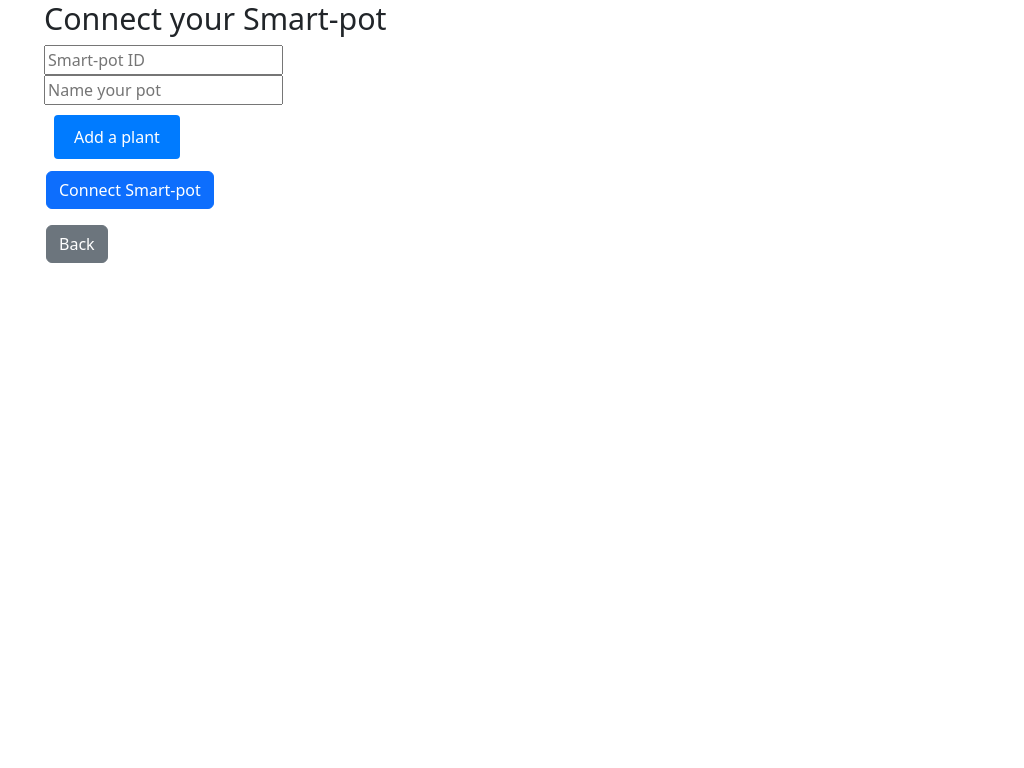
it: Pop-up when clicking add plant and close when cancel
The width and height of the screenshot is (1024, 768).
Click the text "Add a plant": [117, 136] box [54,114,180,158]
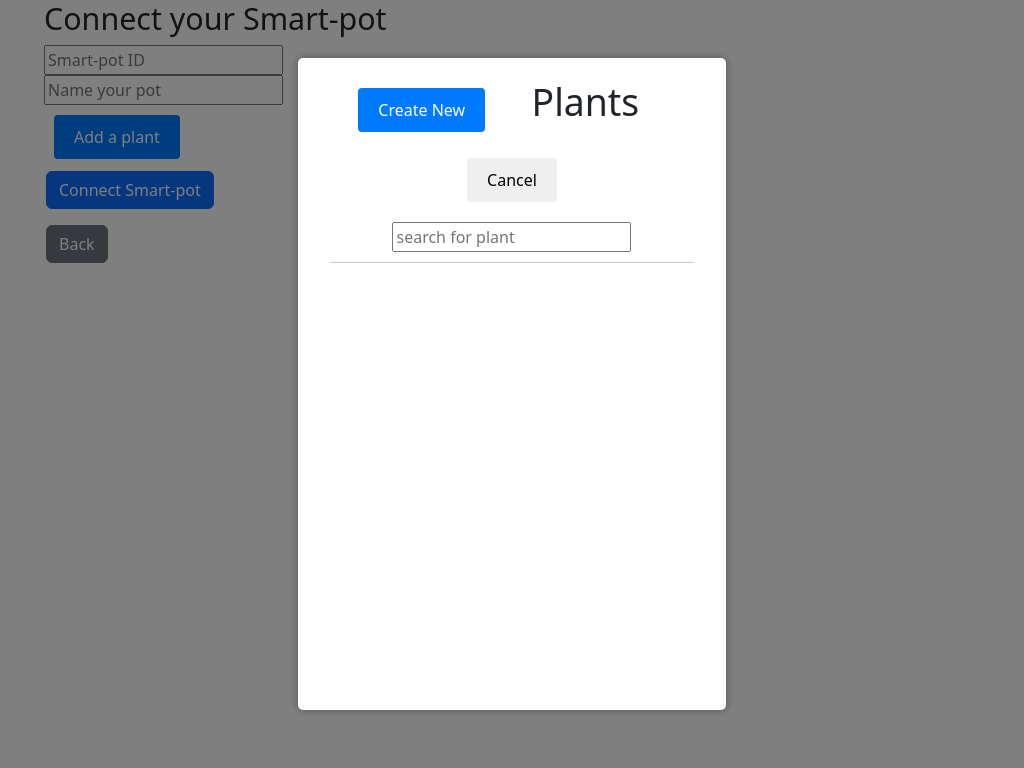
Expected: the heading "Plants" is shown, [532,80,639,124]
Click the button "Cancel": [512, 180] box [467,158,557,202]
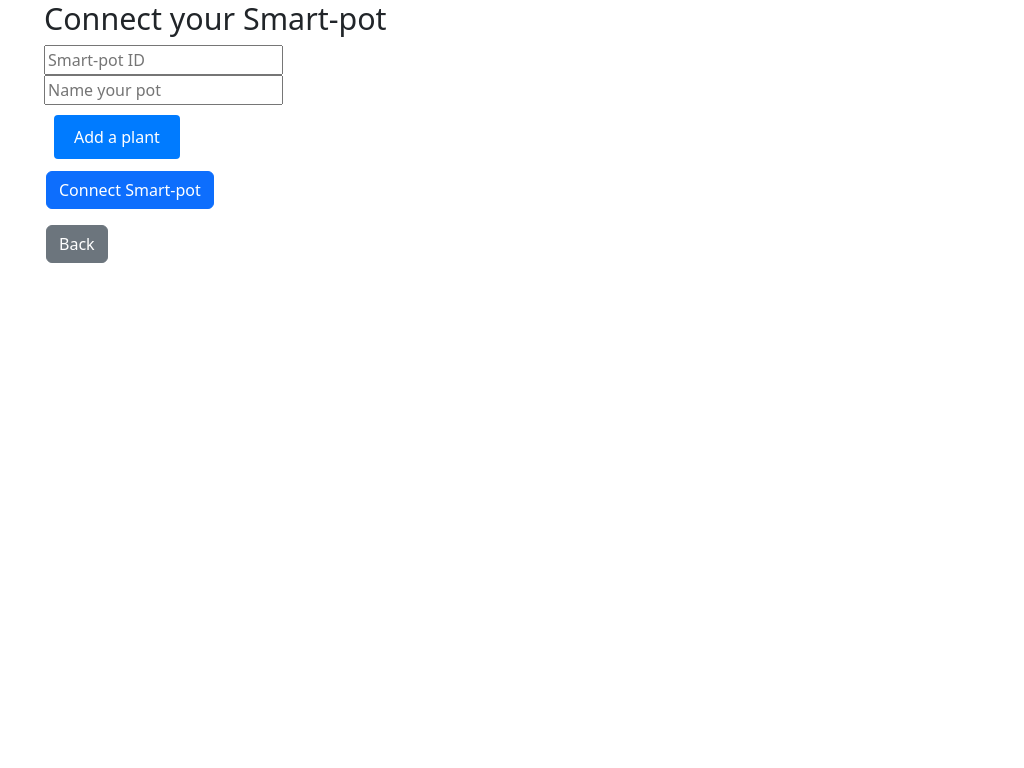
Expected: the heading "Plants" is gone
